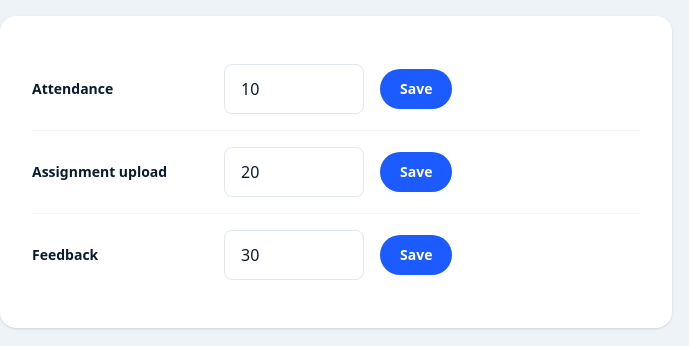
PointRulesTable (US4) › shows the saved confirmation after a successful save
Click the button "Save" in the row of "Attendance". click: (416, 89)
box: [380,69,452,109]
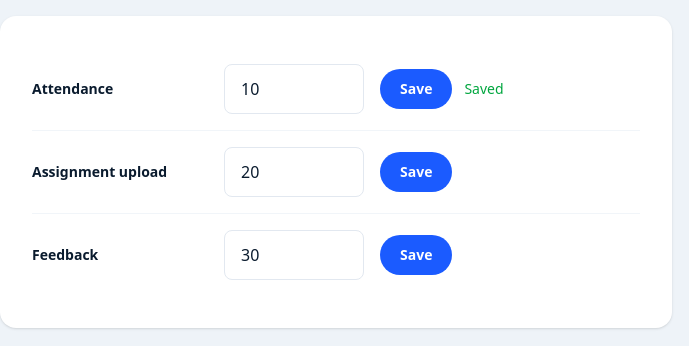
Check: the text "Saved" is shown, box [464,79,504,99]
